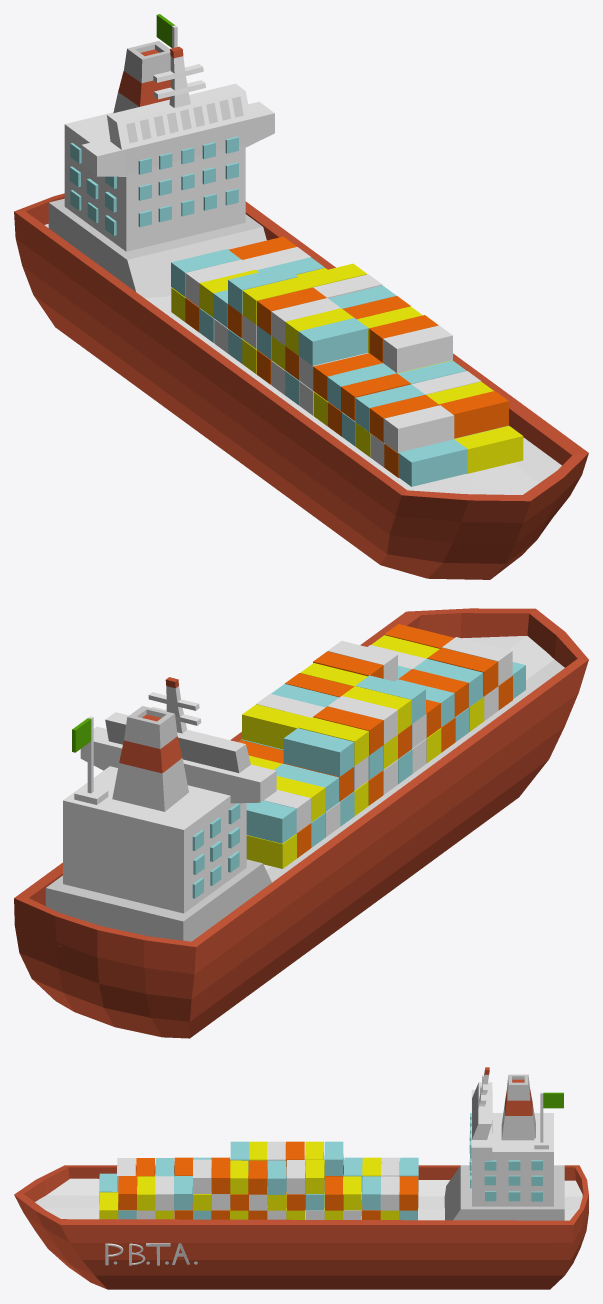
The model's file is Ship.fbx.
The picture shows the model from 3 angles, top to bottom: view 1: azimuth 30°, elevation 25°; view 2: azimuth 150°, elevation 25°; view 3: azimuth 270°, elevation 25°; orthographic projection. The views are drawn at different scales.
Visible parts, largest first — view 1: Port; view 2: Port; view 3: Port.
Part boxes in pixels (<box>): Port: <box>14,14,588,579</box>; Port: <box>14,608,588,1038</box>; Port: <box>14,1067,588,1289</box>.
Bounding box in the file's own units: 217 × 331 × 869.
